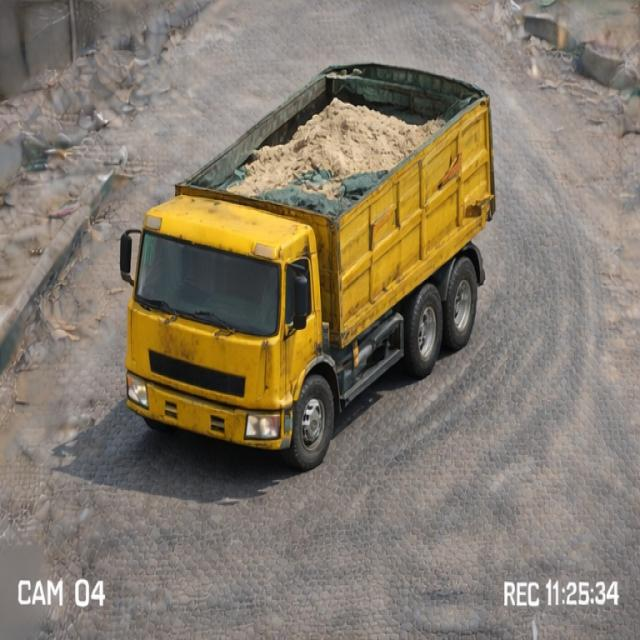trailer: (176, 60, 492, 226)
truck: (123, 40, 517, 467)
